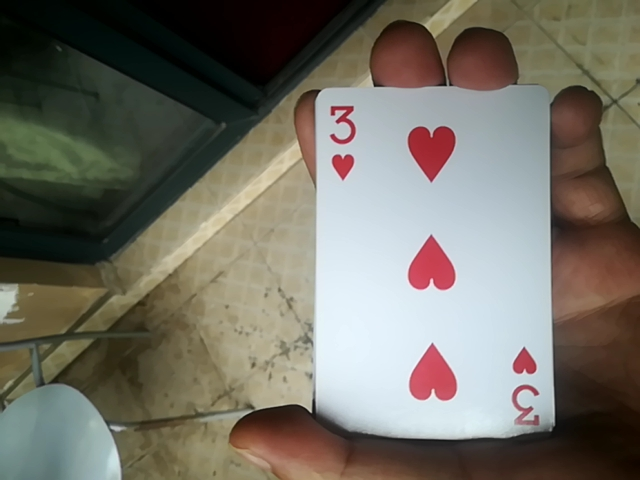hx 3: (321, 82, 562, 437)
